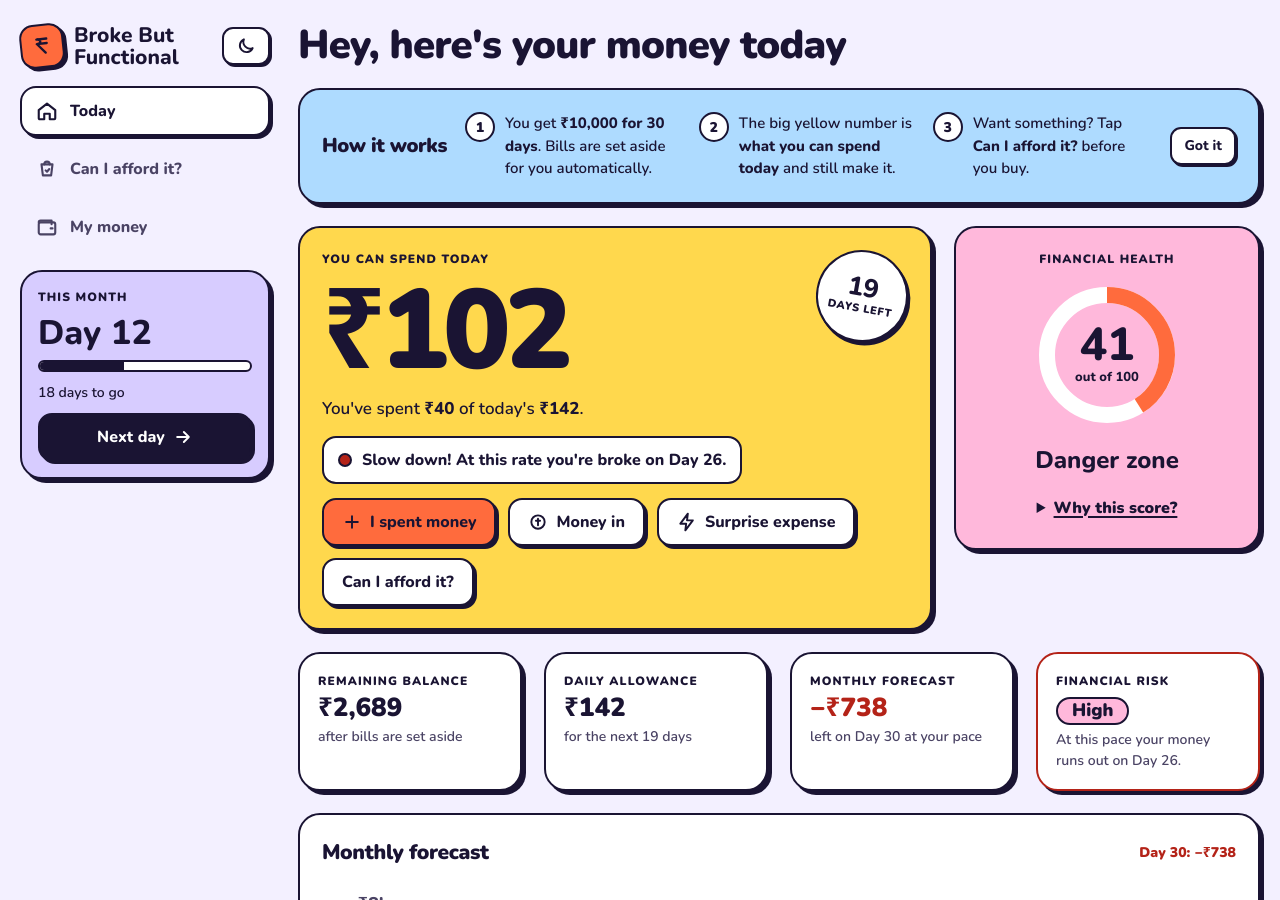
Scenario: Today › validates the amount and explains the error
Step 1. Click the button "I spent money" → click(409, 522), box [322, 498, 496, 546]
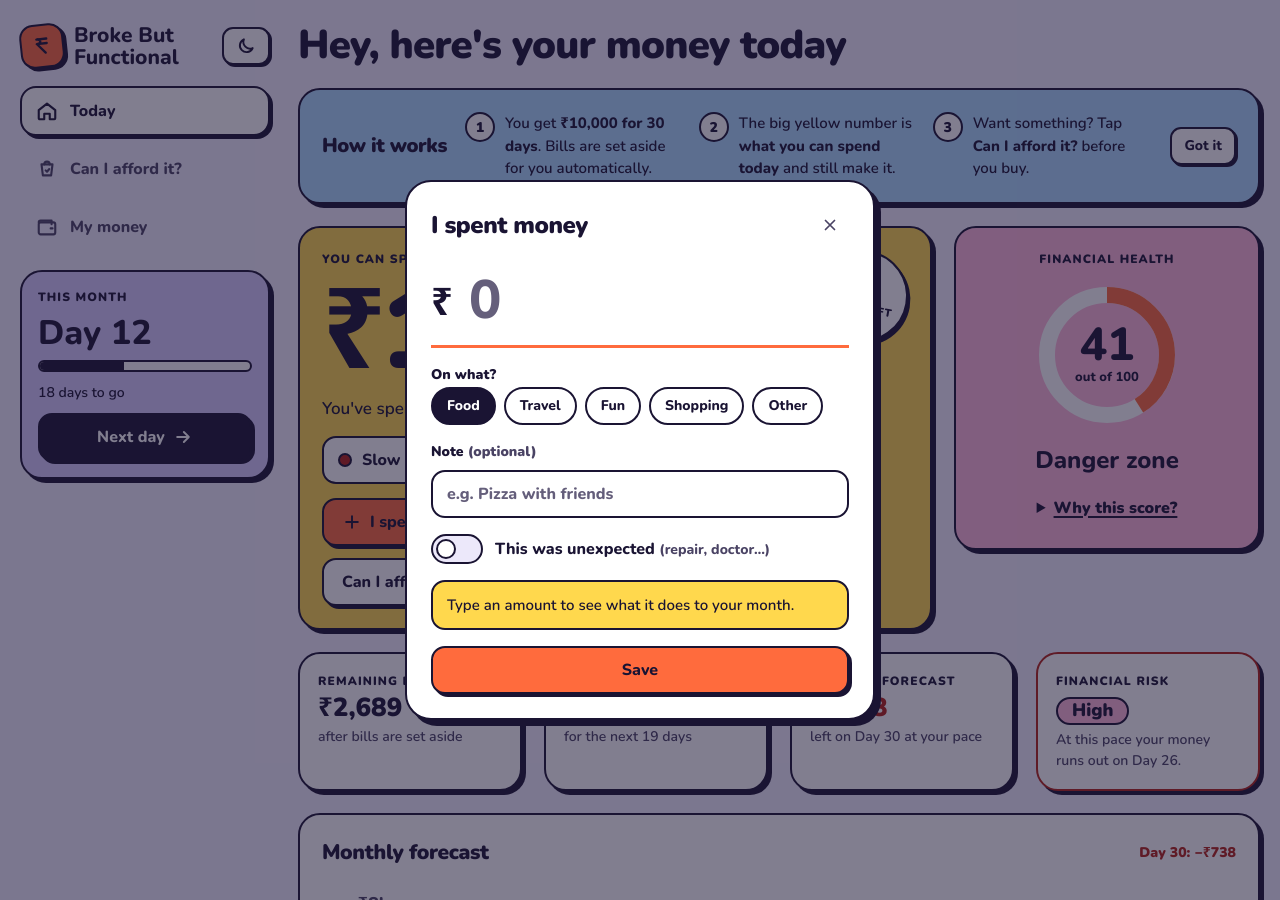
Step 2. Click the button "Save" → click(640, 670), box [431, 646, 849, 694]
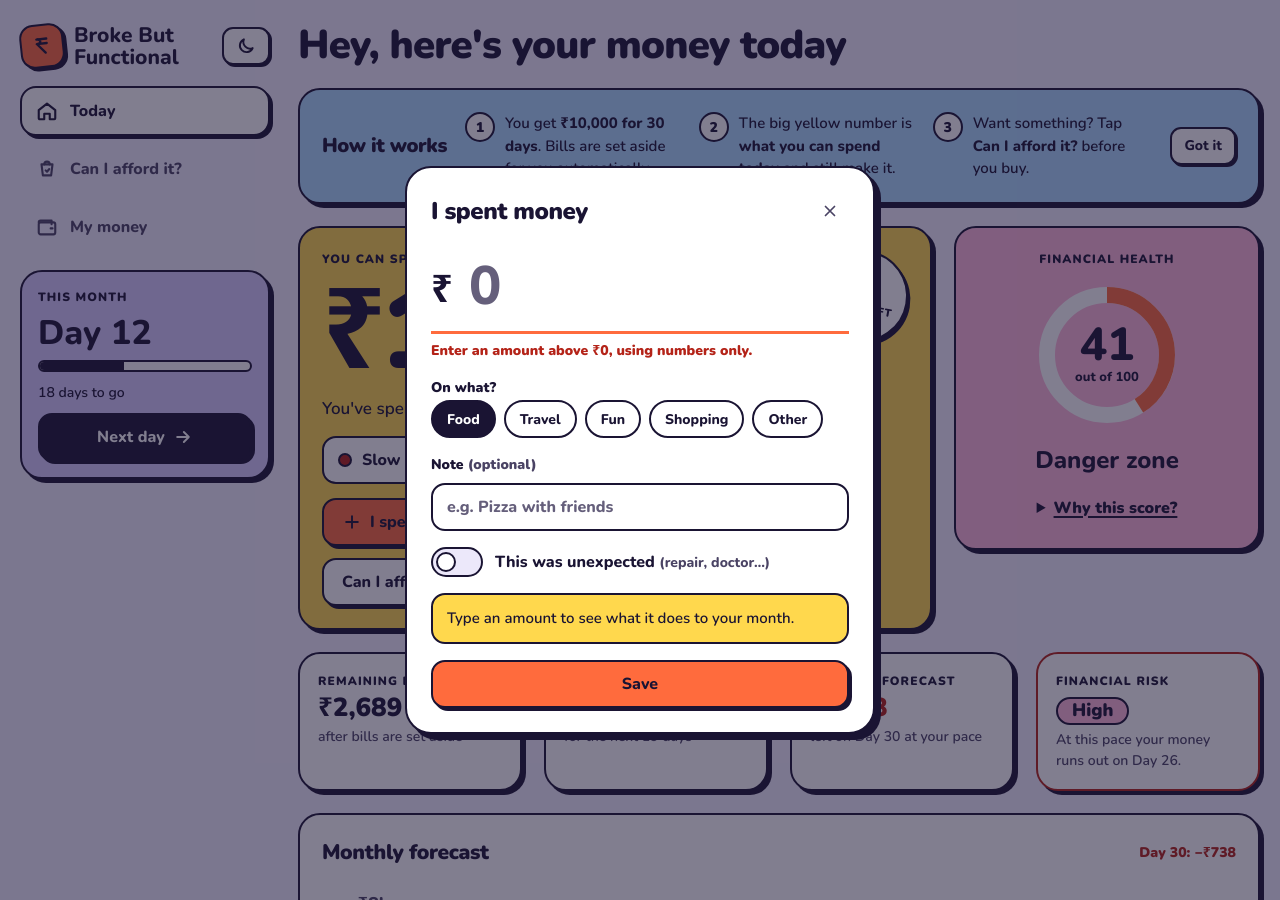
expect the message shows "Enter an amount above ₹0": met, box [431, 341, 752, 360]
